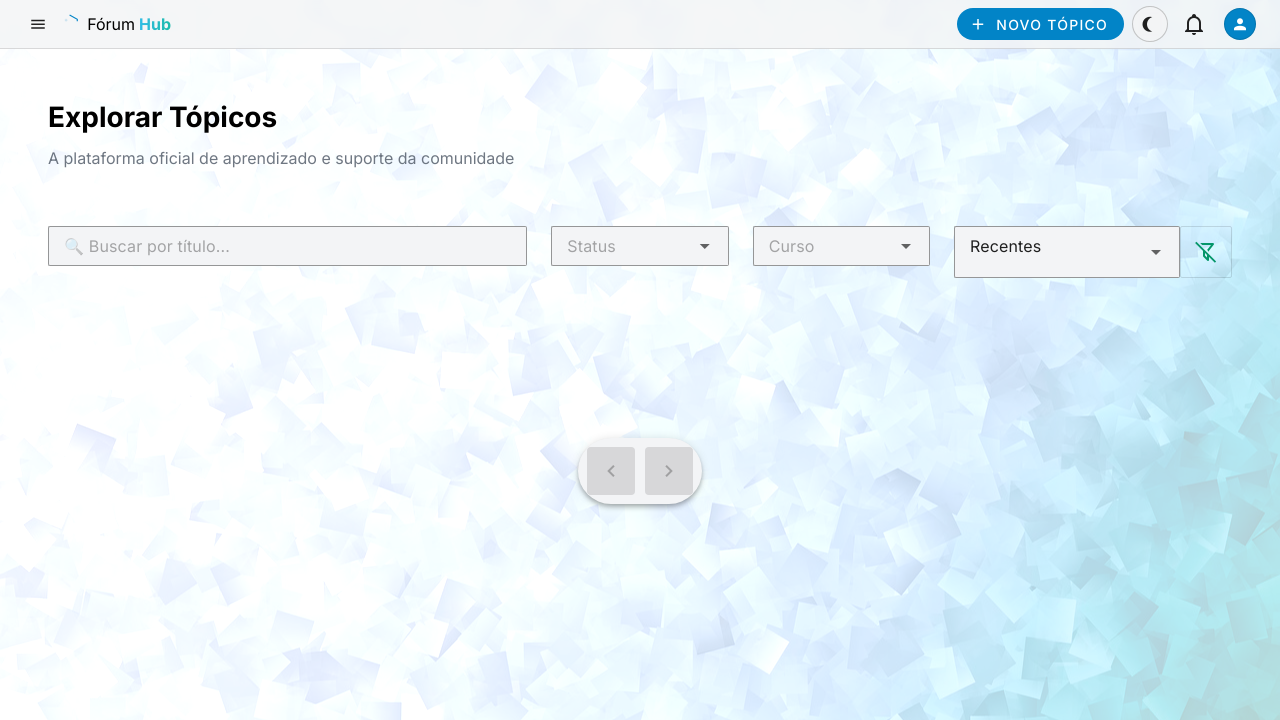
Scenario: Topic Management › should open new topic dialog
Click the button with test id "nav-new-topic". click: (1041, 24)
box: [957,8,1124,40]
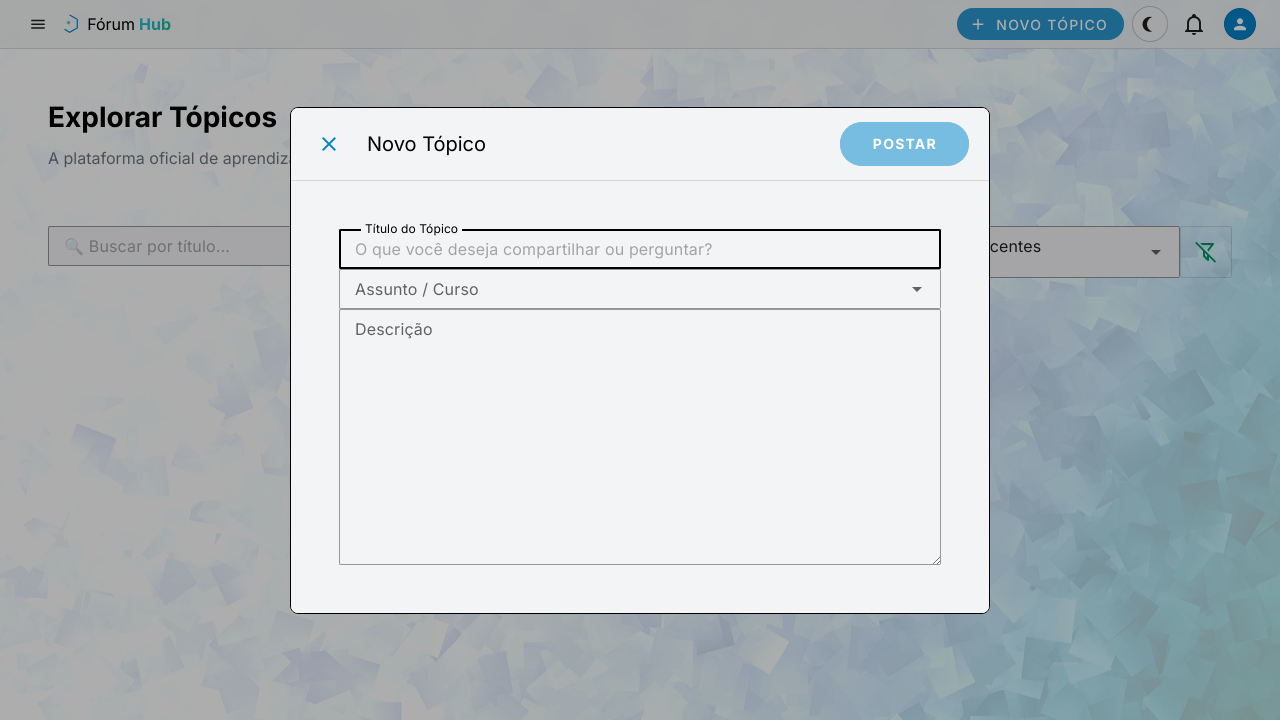
Check: the dialog is shown
Check: the text "Novo Tópico" is shown, box [367,132,486,156]
